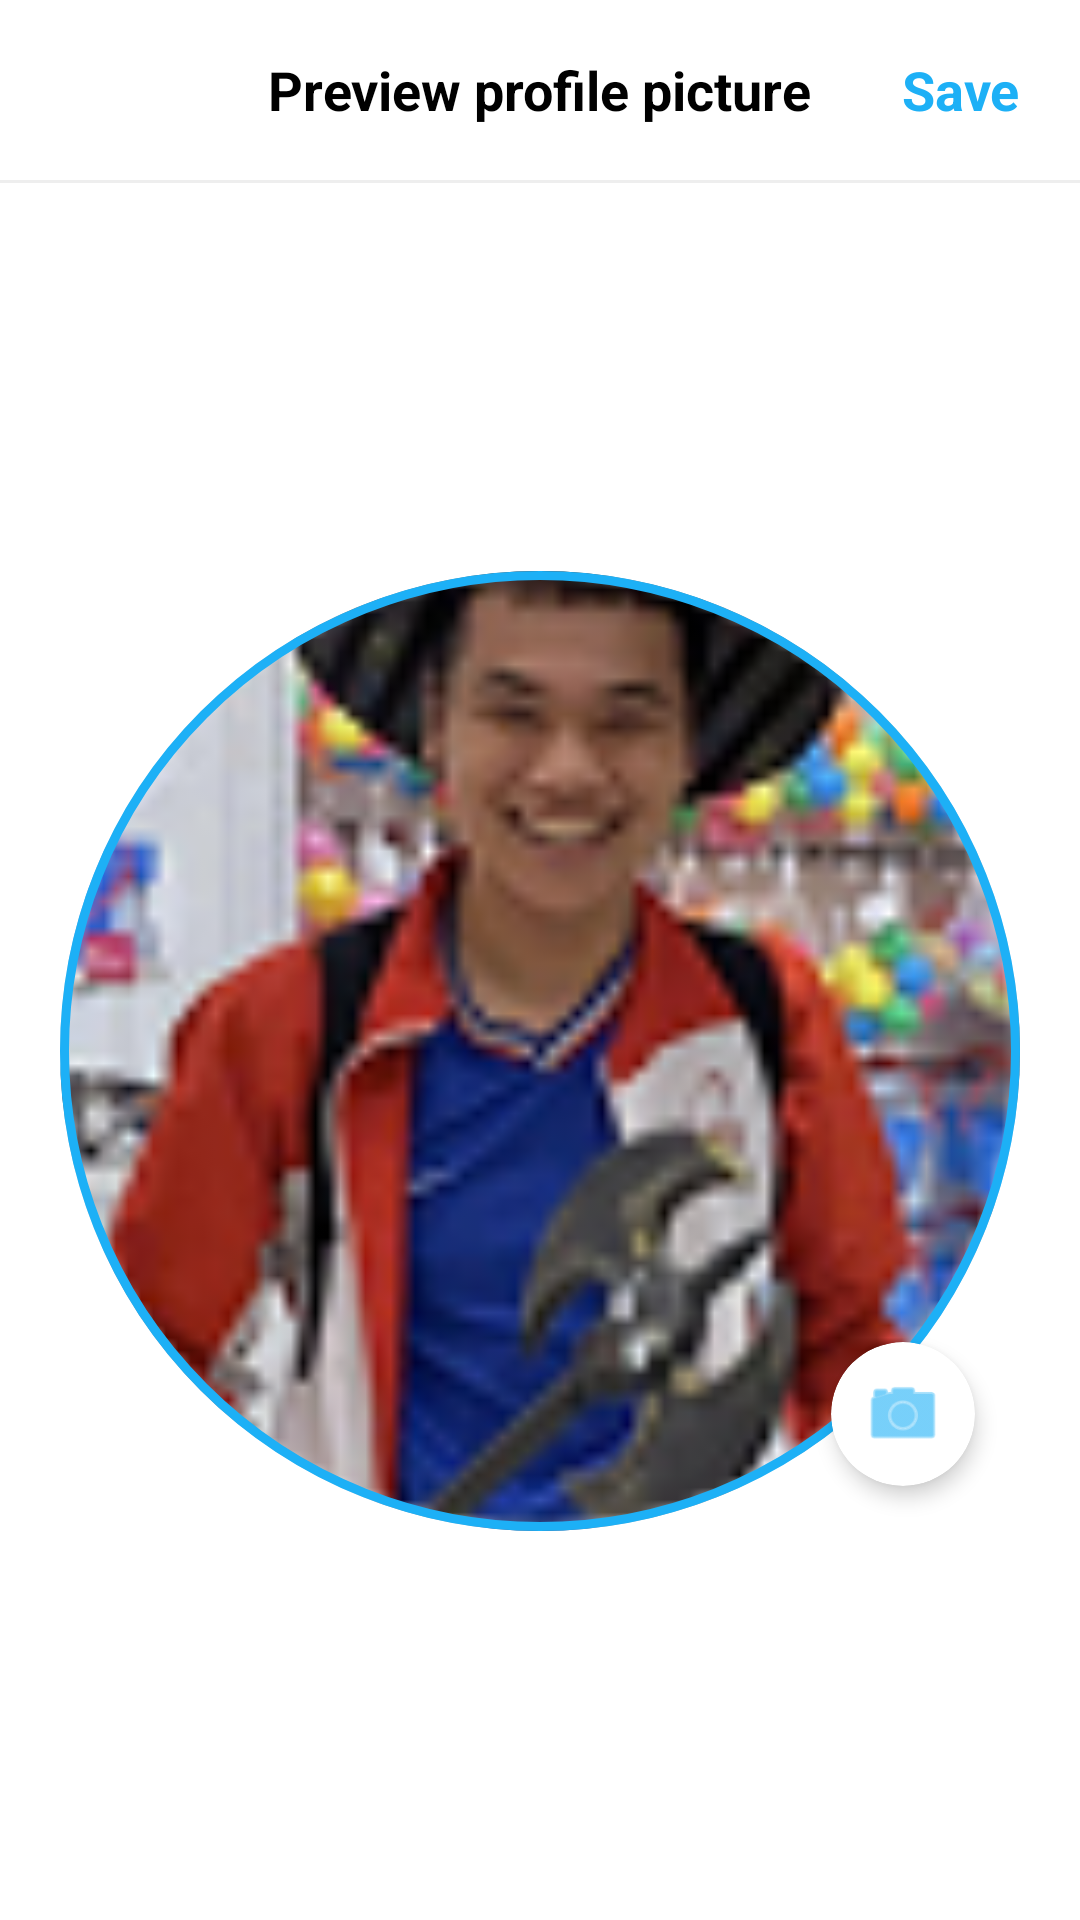

Icon click points for this 1080 × 1920 phone screenshot, format (x=x, y=y):
camera: (x=903, y=1414)
